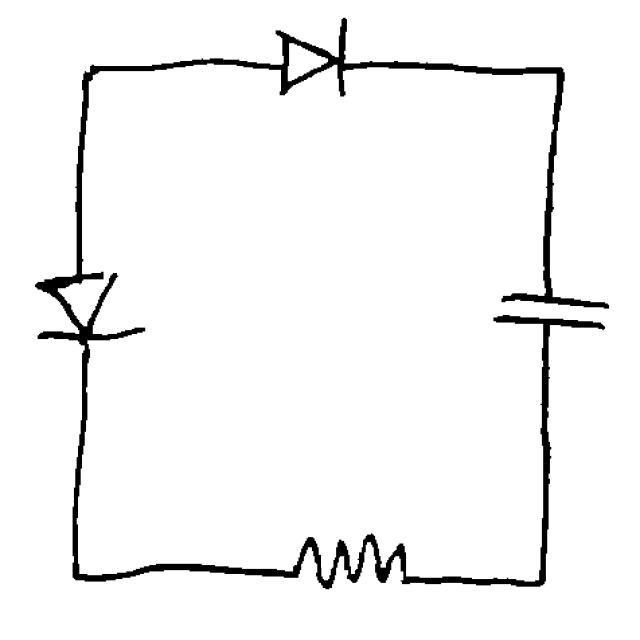capacitor: (474, 279, 623, 353)
diode: (23, 252, 157, 358), (258, 9, 363, 116)
resistor: (272, 523, 428, 605)
